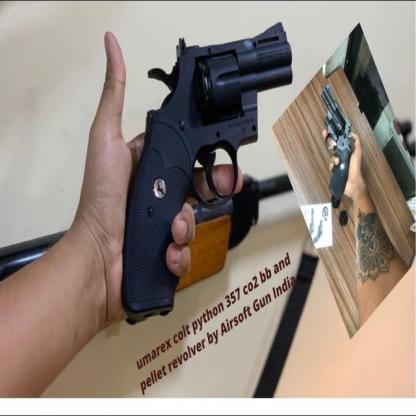handgun: (97, 16, 303, 330)
